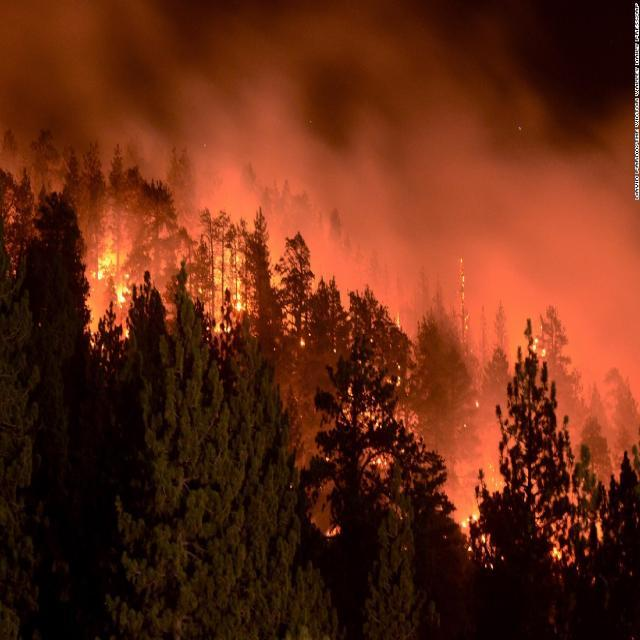Fire: (89, 228, 640, 558)
Smoke: (0, 0, 637, 327)
